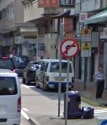No Turn Right: (59, 39, 79, 60)
